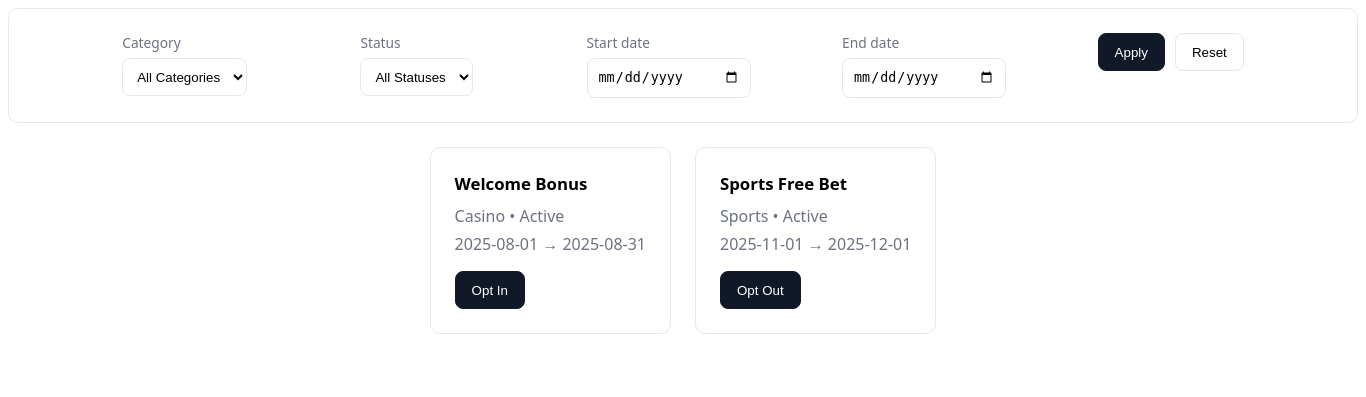
it: client filters reduce visible items (category + date)
The width and height of the screenshot is (1366, 397).
# Category: Casino
Select "Casino" in the dropdown labelled "Category": [185, 77] box left=122, top=58, right=247, bottom=96
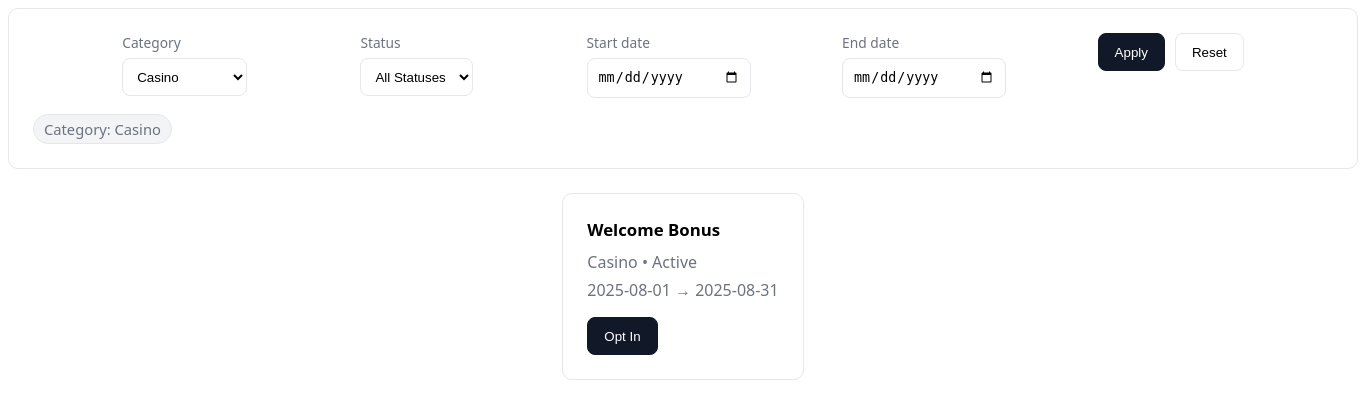
In the date field labelled "Start date": [669, 78] box left=587, top=58, right=751, bottom=98, type "2025-09-01"
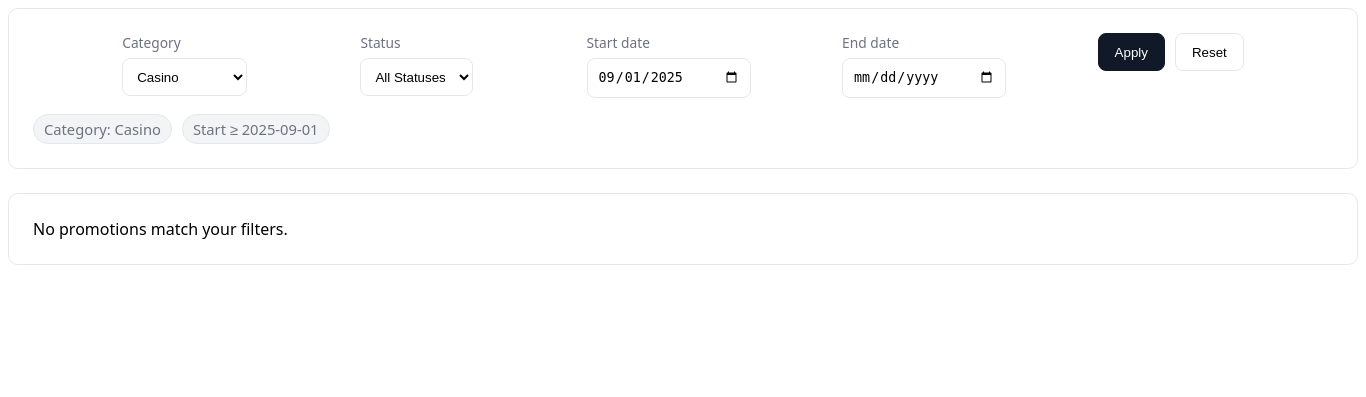
Now the heading "Welcome Bonus" is gone
Now the text "No promotions match your filters." is shown, box left=8, top=193, right=1358, bottom=265
